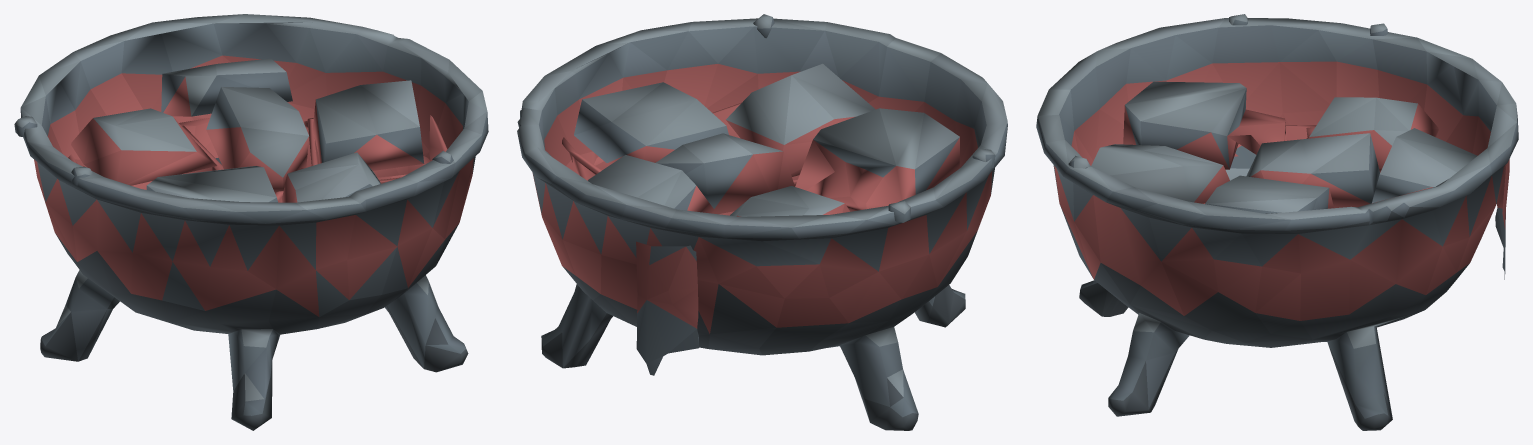
Rendered from brazier.glb.
The picture shows the model from 3 angles, left to right: view 1: azimuth 30°, elevation 25°; view 2: azimuth 150°, elevation 25°; view 3: azimuth 270°, elevation 25°; orthographic projection. The views are drawn at different scales.
Parts seen in each view (by area): view 1: Smart_brazier; view 2: Smart_brazier; view 3: Smart_brazier.
Boxes of the visible parts, x1,y1,x2,y2 form: Smart_brazier: (14, 14, 488, 430); Smart_brazier: (517, 14, 1007, 430); Smart_brazier: (1036, 14, 1518, 430).
Bounding box in the file's own units: 1.45 × 0.8 × 1.45.
